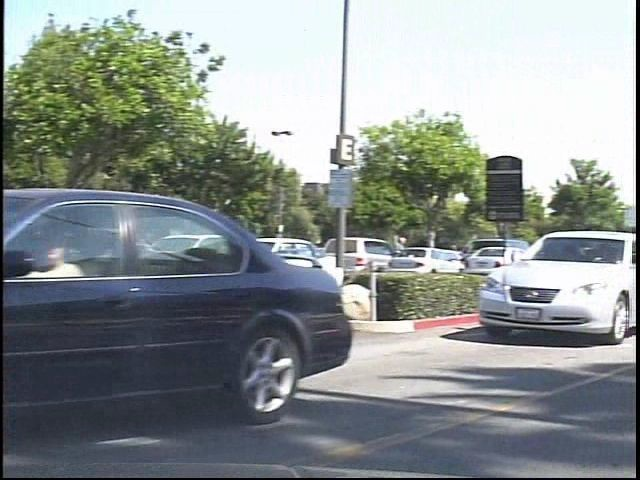person: (399, 230, 426, 283)
